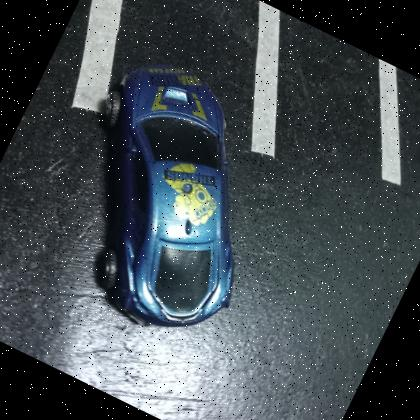Car: (93, 65, 233, 329)
